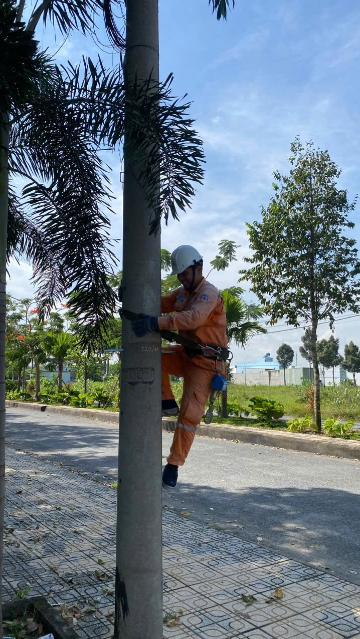gloves: (125, 310, 165, 340)
harness: (169, 334, 235, 370)
helmet: (156, 236, 207, 279)
shoes: (150, 399, 184, 419), (159, 463, 183, 491)
